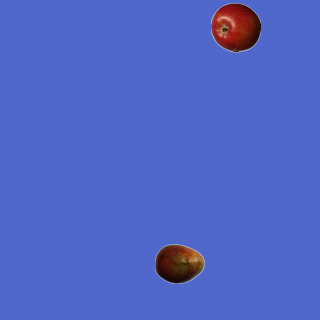Apple Braeburn: (210, 2, 260, 52)
Mango Red: (154, 238, 204, 288)
